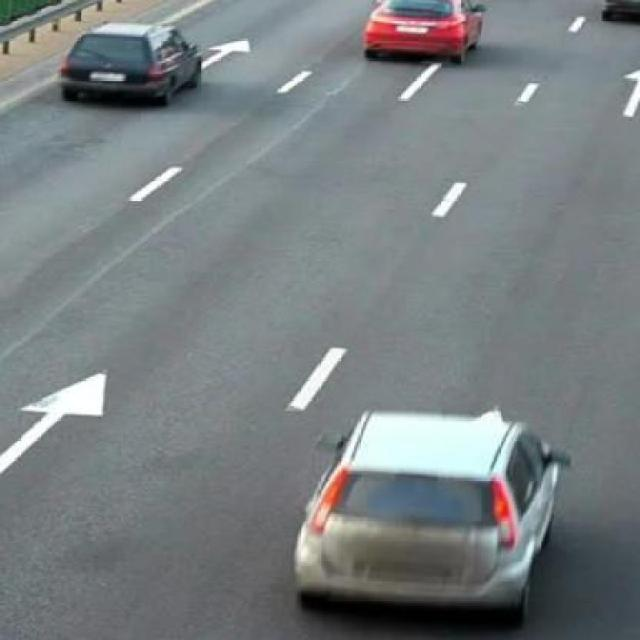car: (265, 402, 610, 621), (43, 26, 205, 104)
